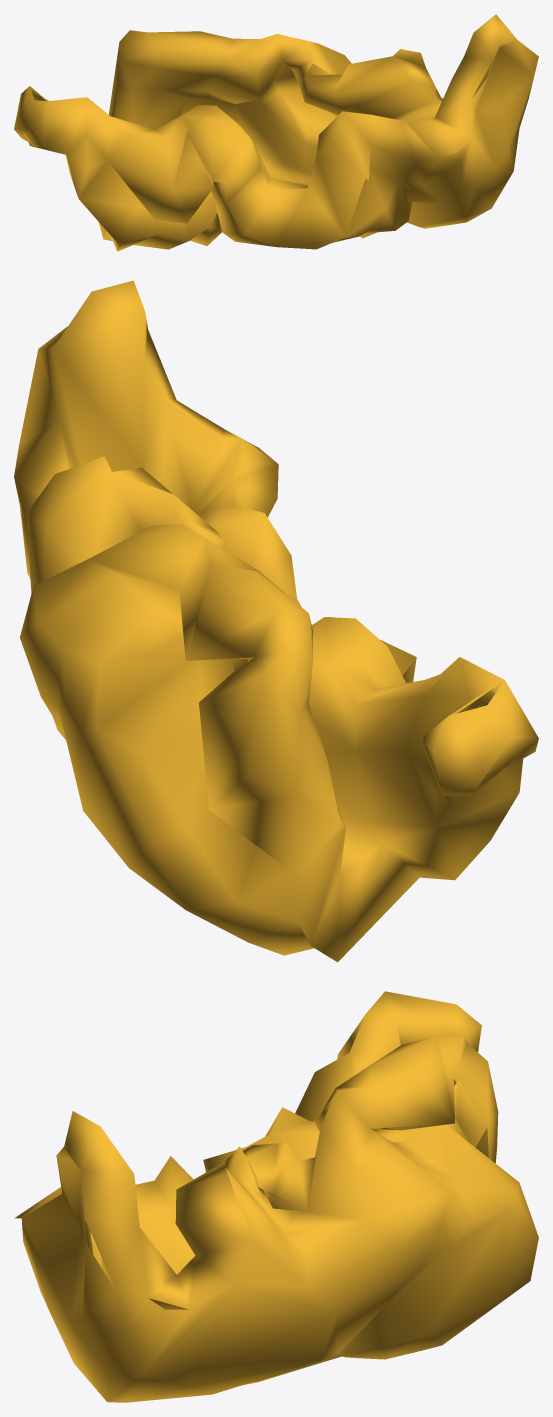
Rendered from nervoso-inferior-occipital-gyrus-and-sulcus-l.glb.
The picture shows the model from 3 angles, top to bottom: view 1: azimuth 30°, elevation 25°; view 2: azimuth 150°, elevation 25°; view 3: azimuth 270°, elevation 25°; orthographic projection. The views are drawn at different scales.
Visible parts, largest first — view 1: Inferior occipital gyrus and sulcus*.l; view 2: Inferior occipital gyrus and sulcus*.l; view 3: Inferior occipital gyrus and sulcus*.l.
Boxes of the visible parts, bbox=[...] form: Inferior occipital gyrus and sulcus*.l: bbox=[14, 14, 538, 251]; Inferior occipital gyrus and sulcus*.l: bbox=[14, 280, 538, 962]; Inferior occipital gyrus and sulcus*.l: bbox=[14, 991, 538, 1402].
Size of the model in its own units: 0.0399 by 0.0237 by 0.0315.
